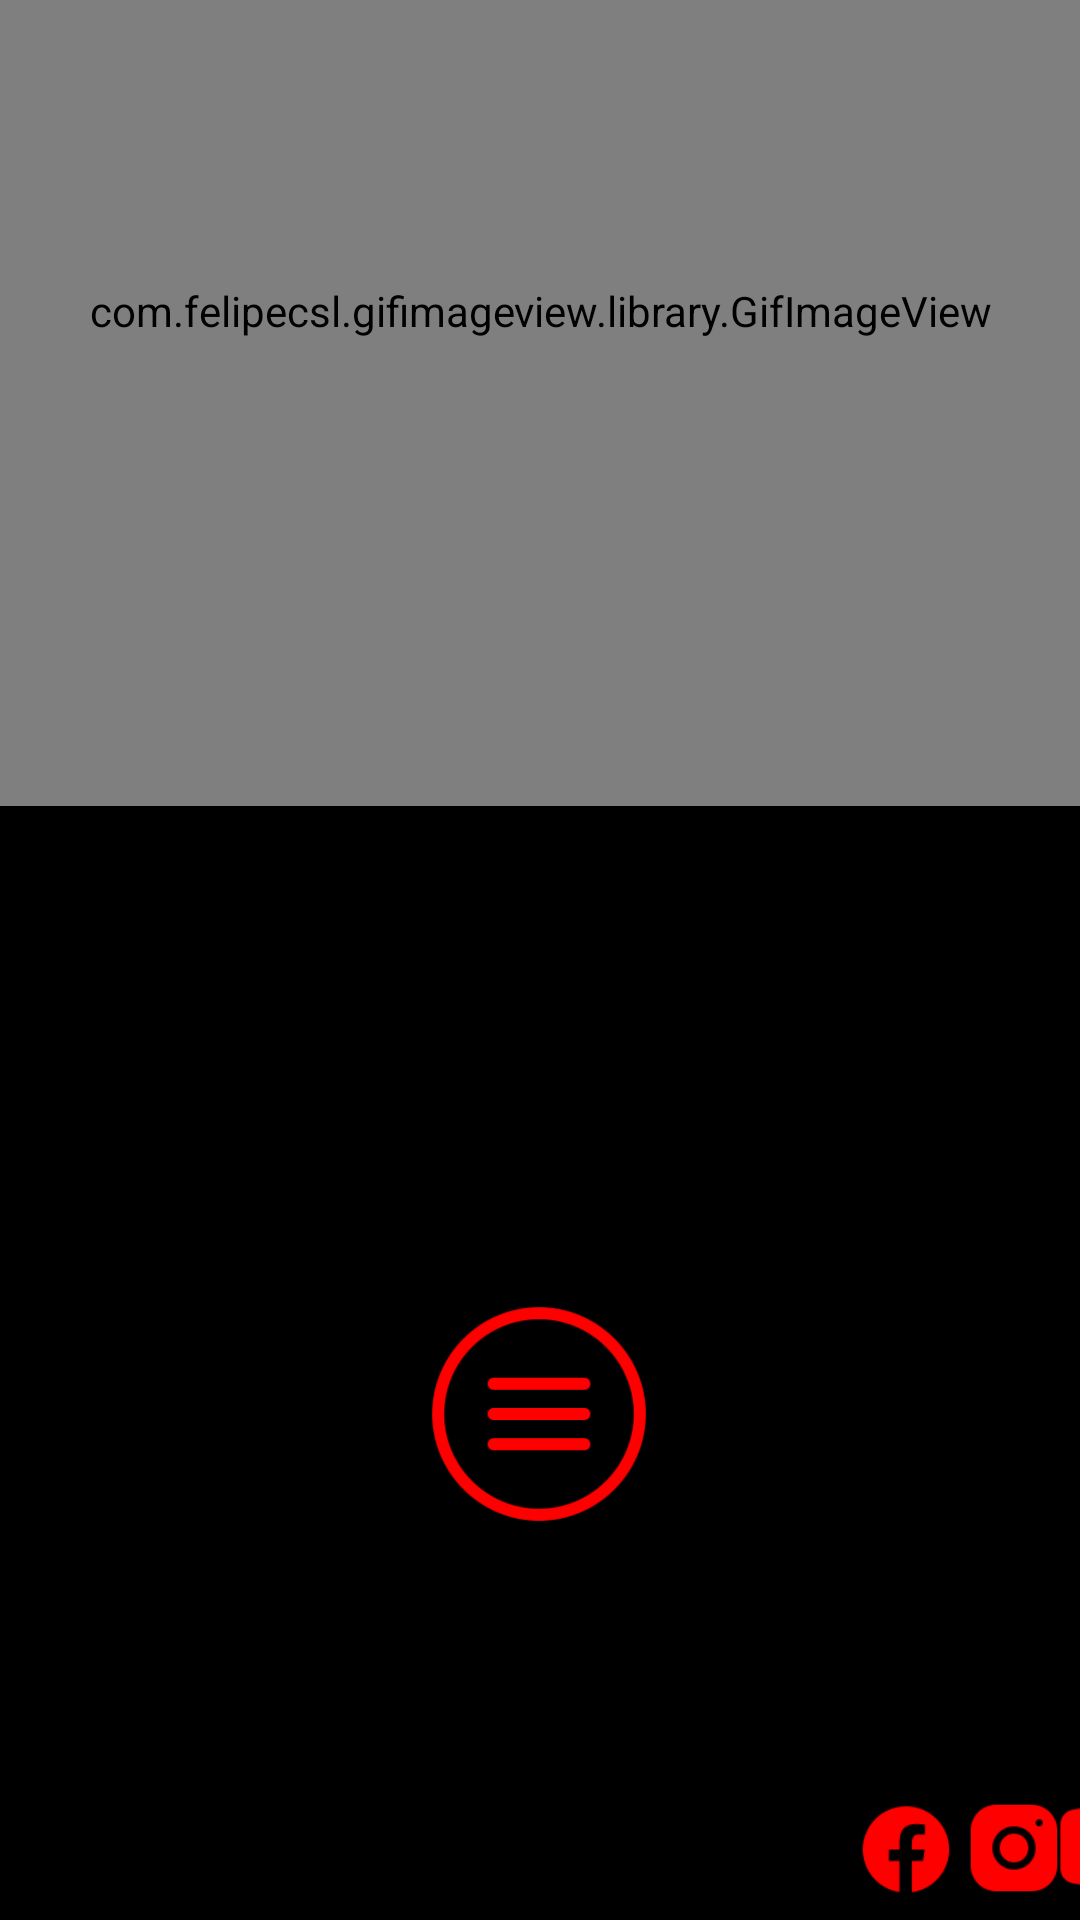

Where to tap for icons on this 1080×1920 app screen, as (x,y):
menu: (539,1414)
